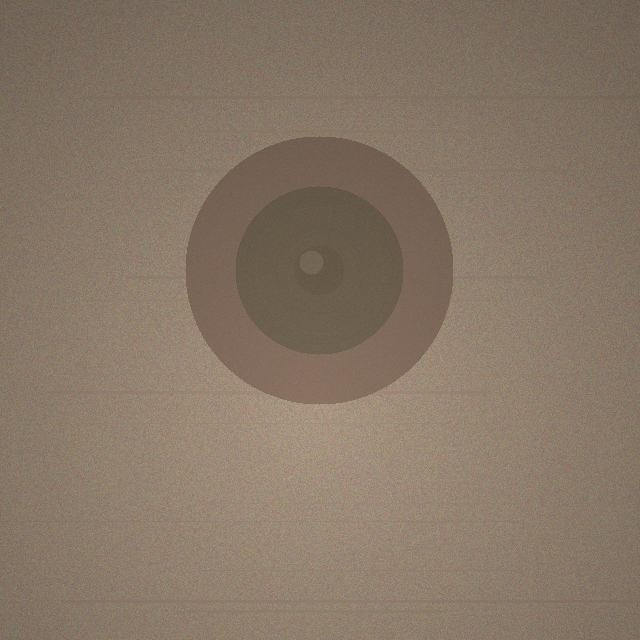good: (185, 136, 453, 404)
